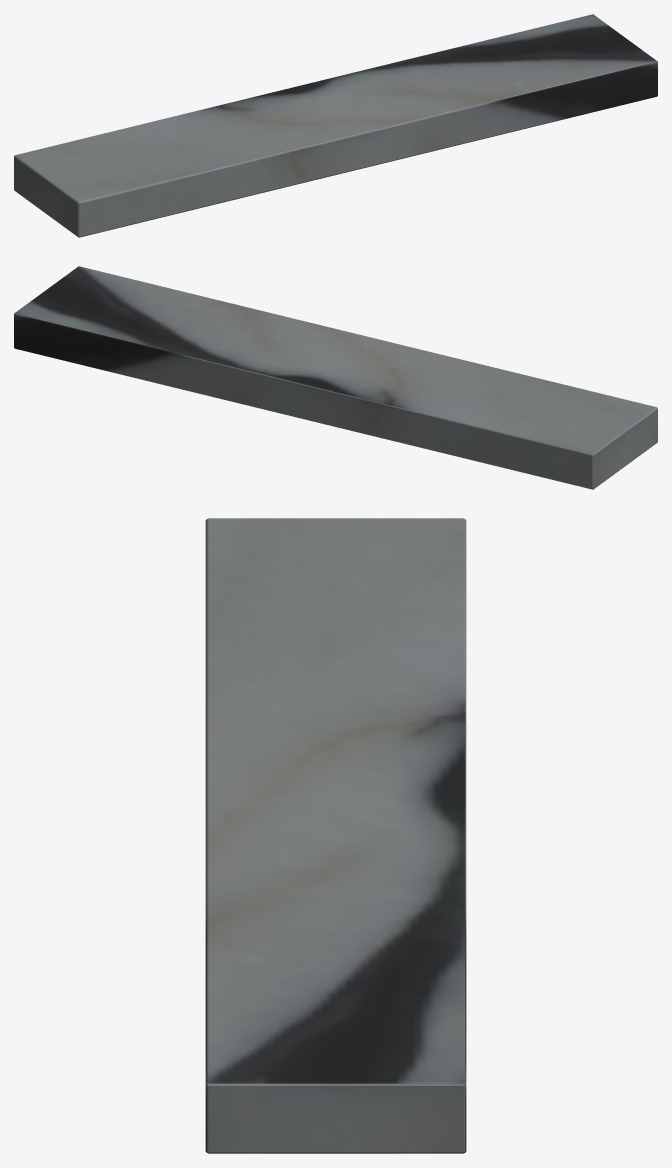
File: headWhite.glb
3 renders of one model, top to bottom at view 1: azimuth 30°, elevation 25°; view 2: azimuth 150°, elevation 25°; view 3: azimuth 270°, elevation 25°, orthographic. The views are drawn at different scales.
Parts seen in each view (by area): view 1: head; view 2: head; view 3: head.
Part boxes in pixels (box(x1,y1,x2,y2)): head: box(14, 14, 657, 237); head: box(14, 266, 657, 489); head: box(205, 518, 466, 1153).
Size of the model in its own units: 0.1636 by 0.0119 by 0.0319.
1 material, 1 textured.
